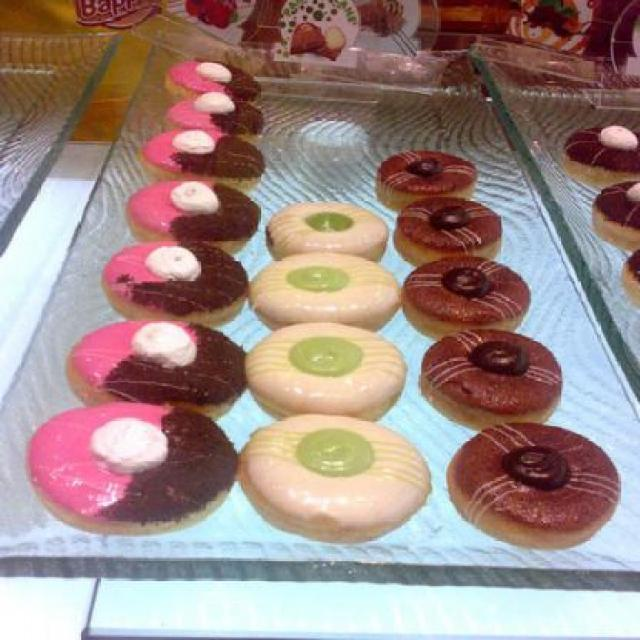Donuts: (48, 28, 637, 612)
